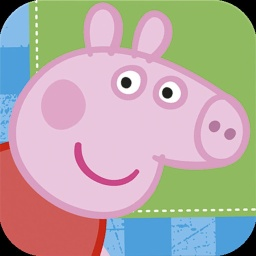Peppa: (1, 2, 252, 255)
